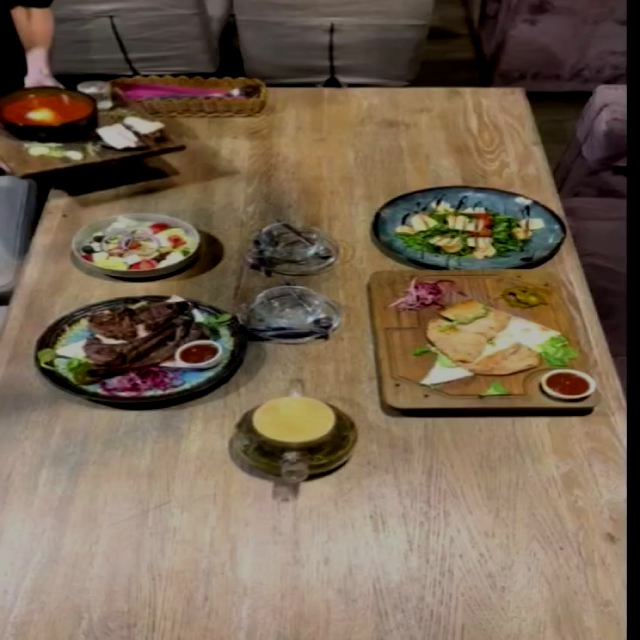meat: (362, 268, 597, 414), (34, 295, 250, 404)
salad: (376, 185, 568, 268), (70, 211, 202, 277)
soup: (0, 71, 187, 167)
tea: (229, 395, 359, 481)
